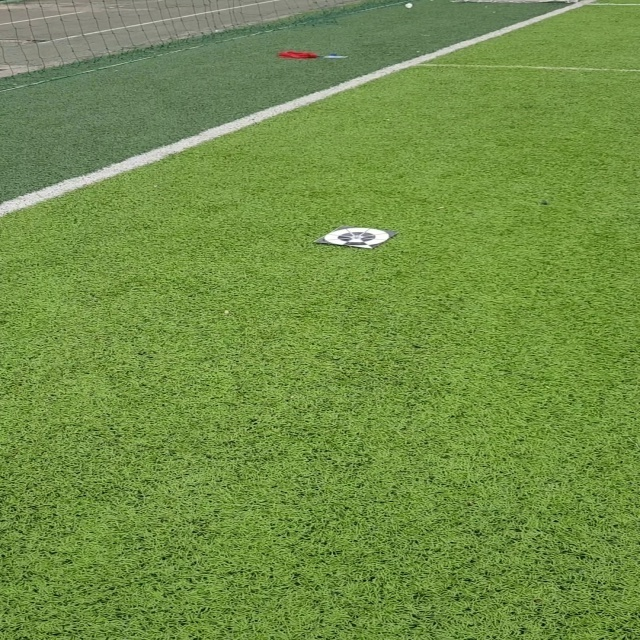landing-zone: (308, 220, 401, 252)
